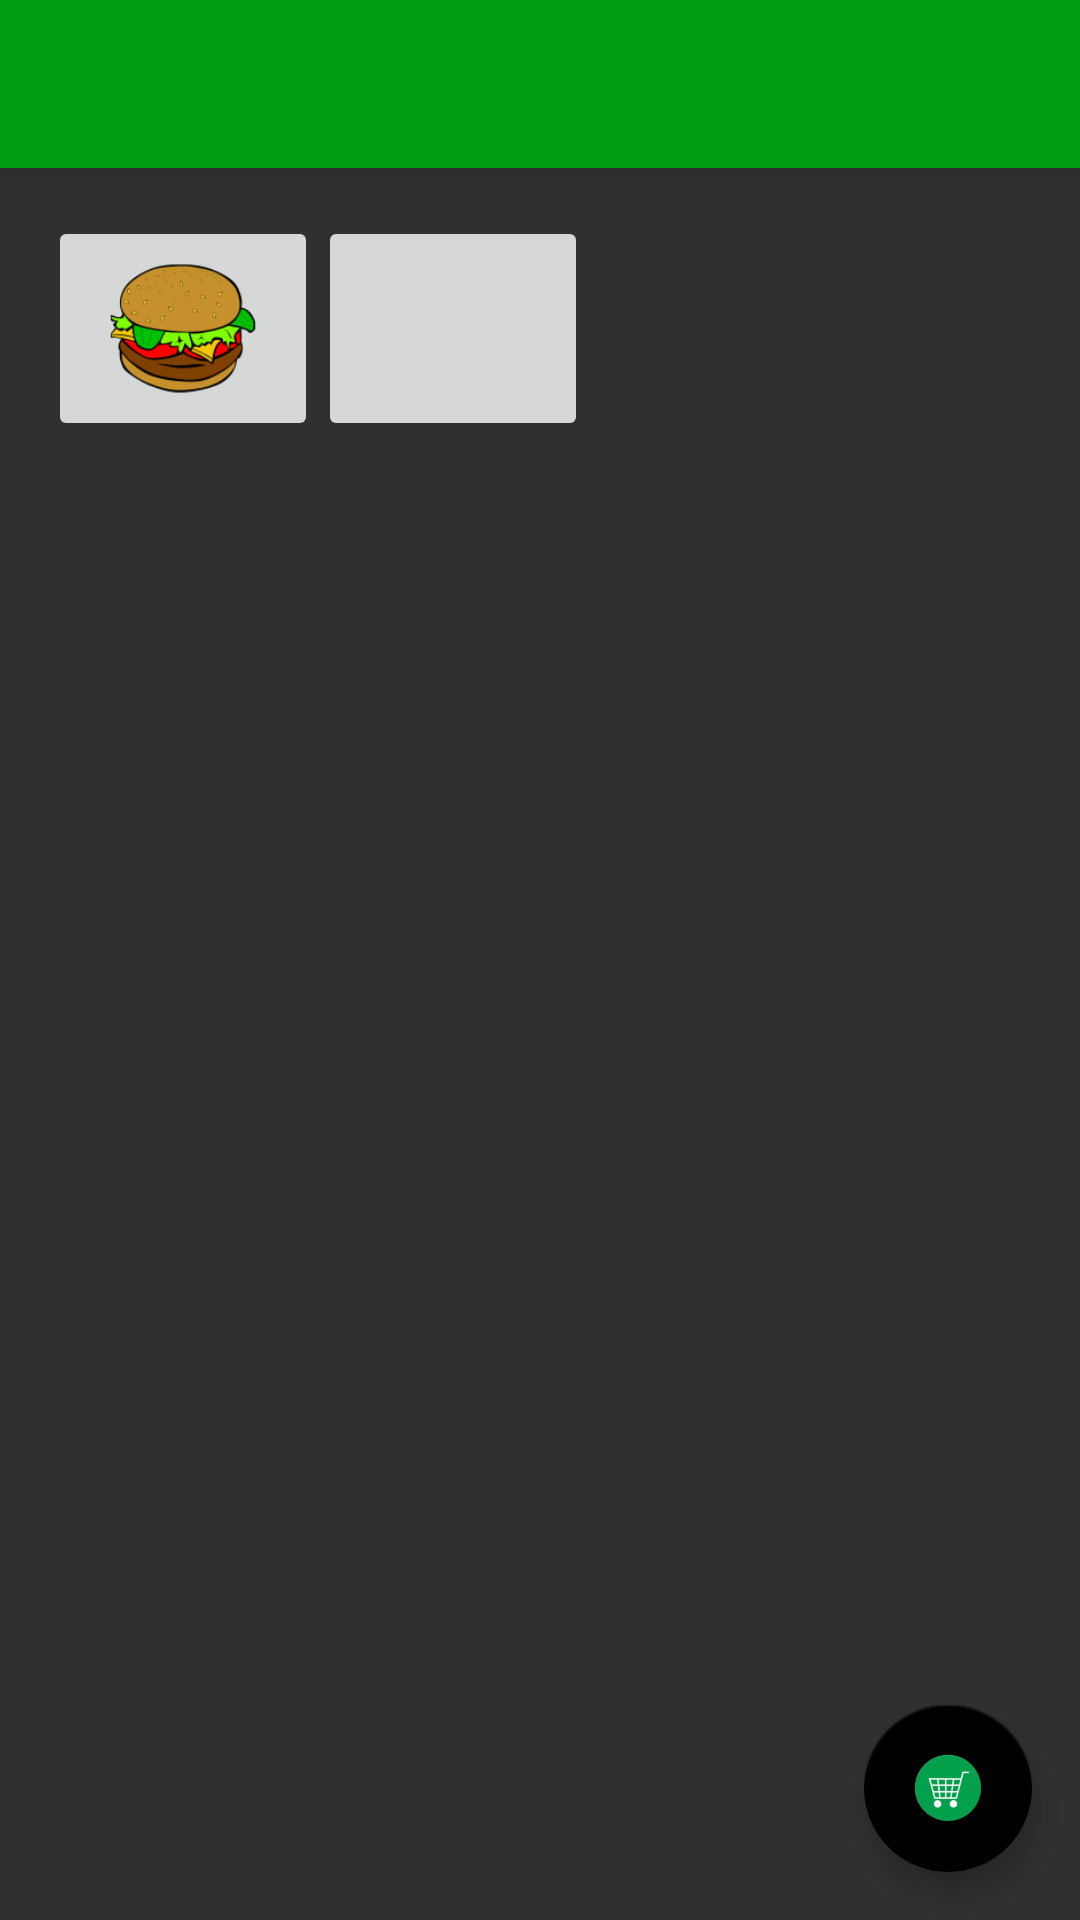

Named icons in this screenshot (1080px x 1920px) and their centers, point (x, y):
hamburger: point (183, 328)
shopping cart: point (948, 1789)
